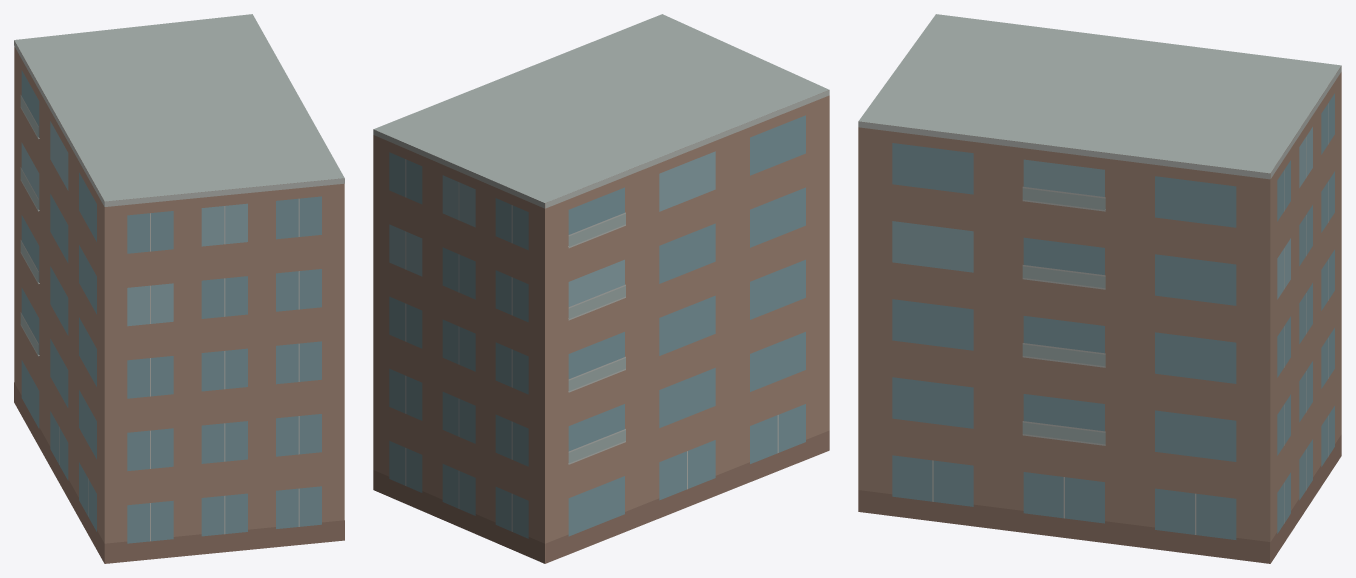
File: survey-upis-32882271.glb
3 views of the same model, side by side, from view 1: azimuth 30°, elevation 25°; view 2: azimuth 150°, elevation 25°; view 3: azimuth 270°, elevation 25° (orthographic). The views are drawn at different scales.
Visible parts, largest first — view 1: survey-upis-32882271.tmp; view 2: survey-upis-32882271.tmp; view 3: survey-upis-32882271.tmp.
Boxes of the visible parts, bbox=[...] form: survey-upis-32882271.tmp: bbox=[14, 14, 344, 563]; survey-upis-32882271.tmp: bbox=[373, 14, 829, 563]; survey-upis-32882271.tmp: bbox=[858, 14, 1341, 563].
Bounding box in the file's own units: 13.93 × 15.9 × 17.84.
